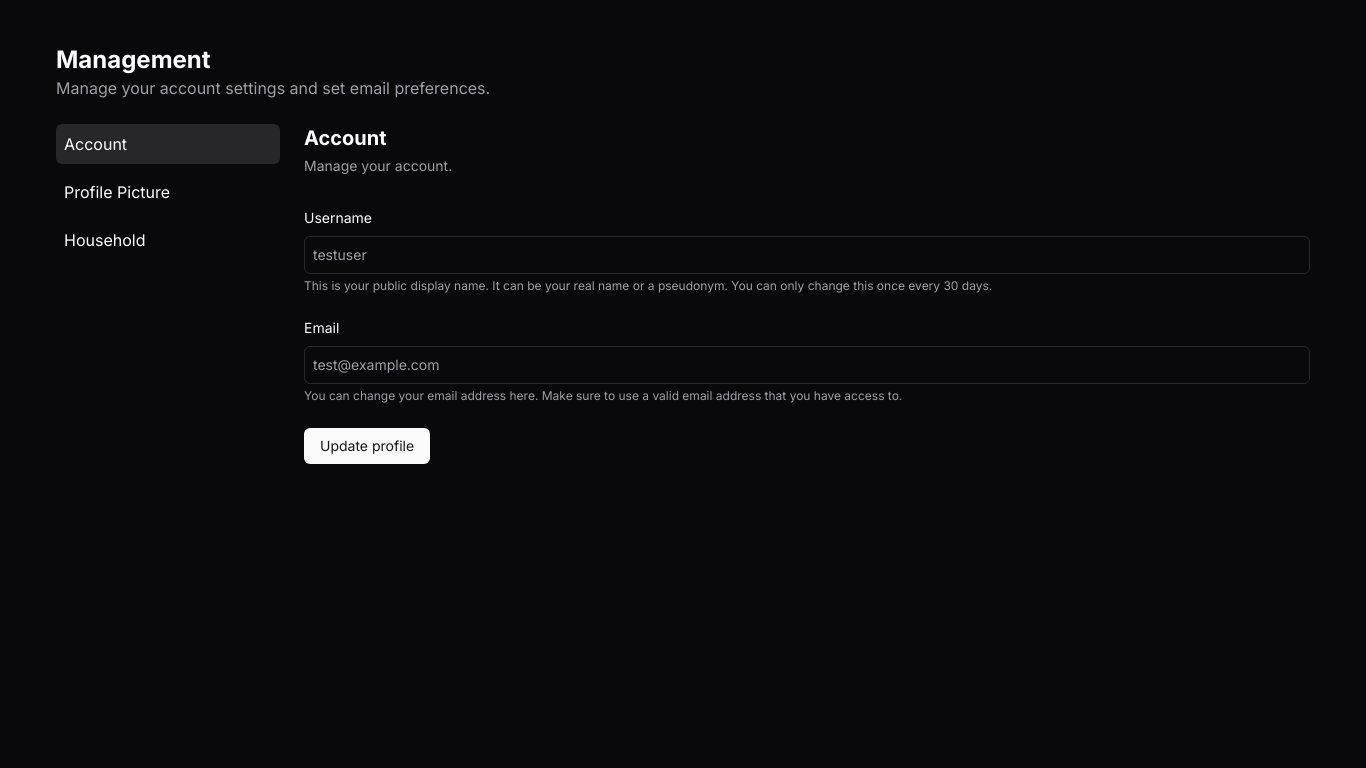
Test: Management Page Tests › should switch to Household tab and show household settings
Click the list item "Household" at (105, 240), box [64, 230, 146, 250]
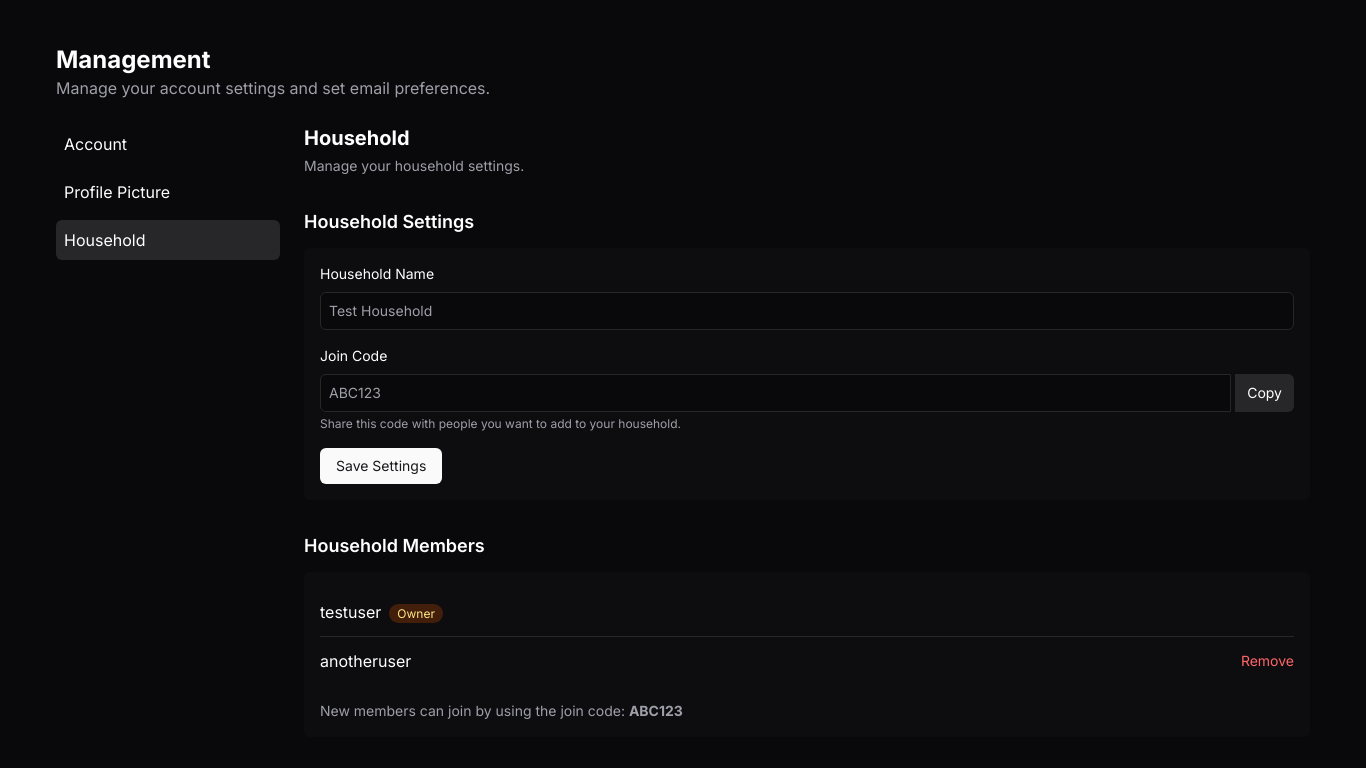
Now the text "Household Name" is shown, box [320, 265, 434, 282]
Now the text "Join Code" is shown, box [320, 347, 387, 364]
Now the heading "Household Members" is shown, box [304, 535, 485, 556]
